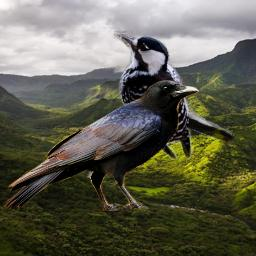Crow: (3, 78, 199, 211)
Woodpecker: (114, 31, 236, 160)
